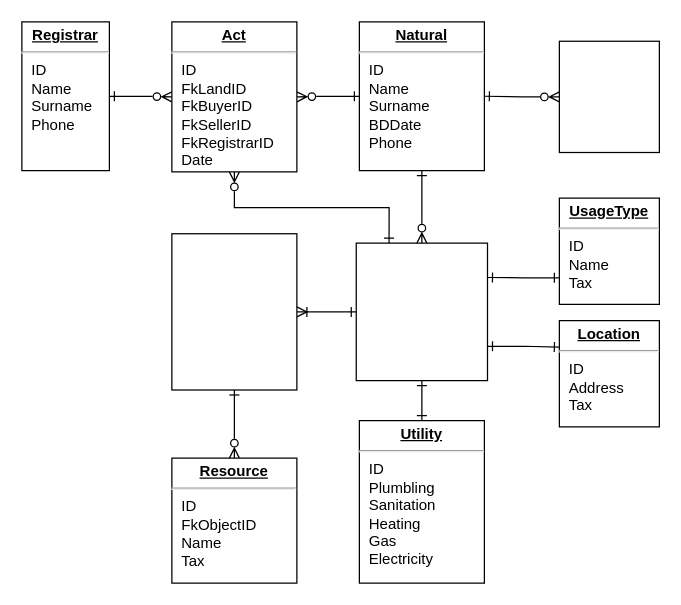
Some shapes in this 681 by 605 pixel diagram are drawn without their labels. Each missing label, with the centre of its shape:
Land ID FkOwnerID FkLocationID FkUsageTypeID FkUtilityID: point 421,311
Legal ID Name FkNaturalID: point 608,96
Object ID FkLandID LatitudeL LatitudeR LongtitudeL LongtitudeR: point 234,311
